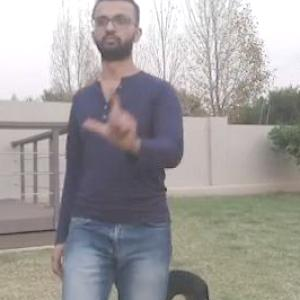land_hand: (81, 80, 139, 148)
